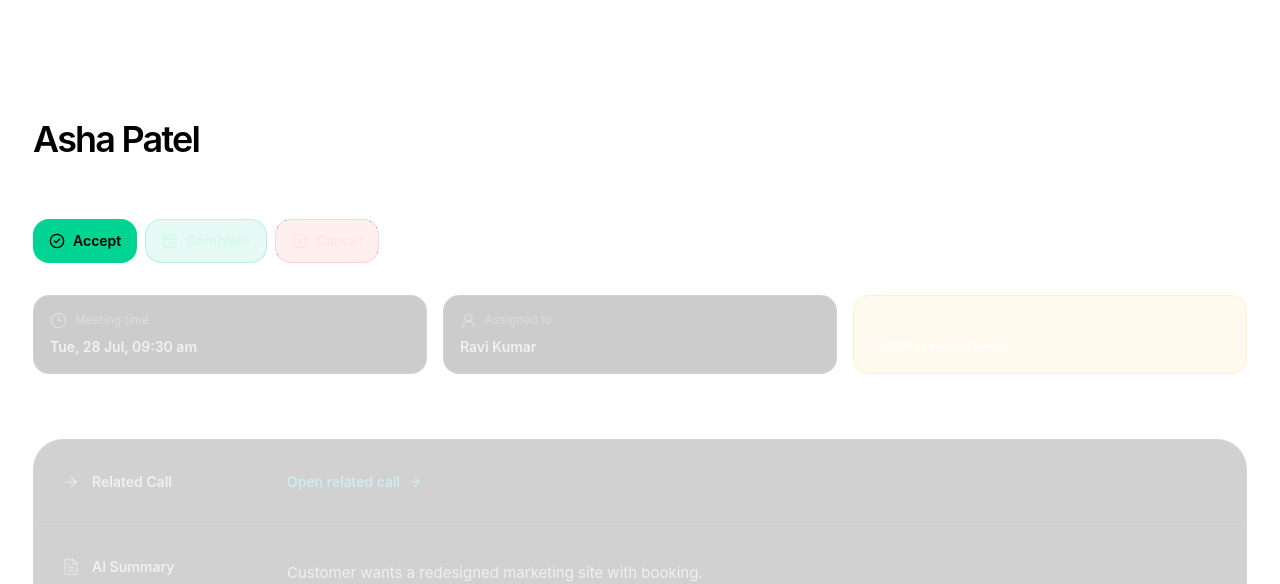
Test: BookingsPage / Meetings › shows failed acceptance errors
(page scrolled)
Click the button with aria-label "Accept meeting" at (85, 240), box [33,218,137,262]
(page scrolled)
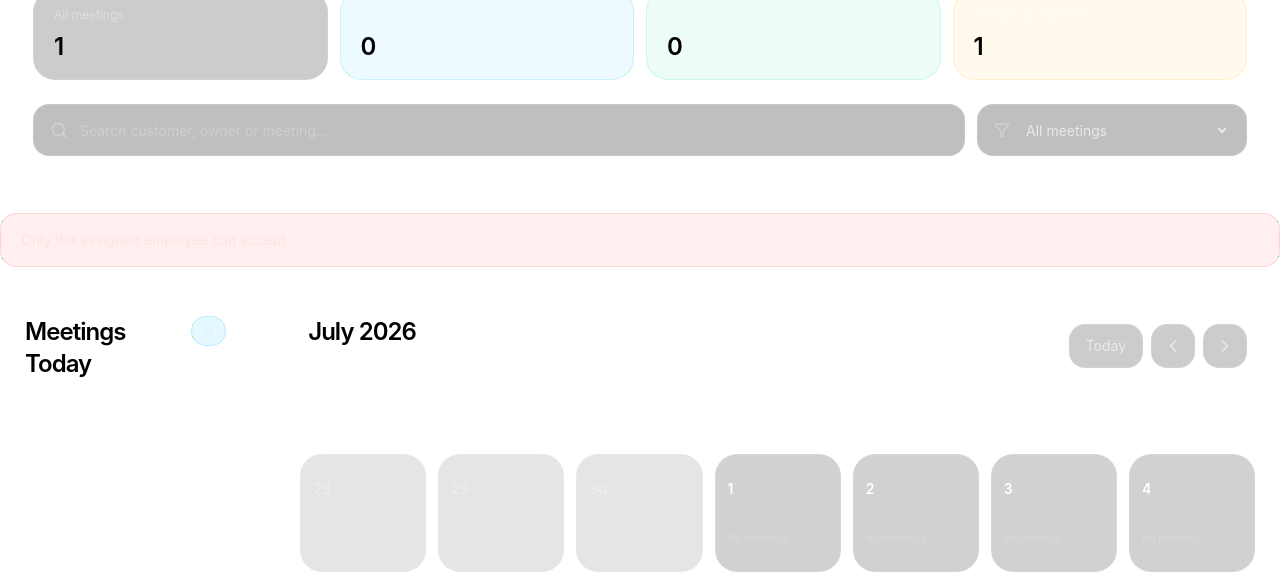
Expected: the text "Only the assigned employee can accept" is shown, [0,213,1279,267]
